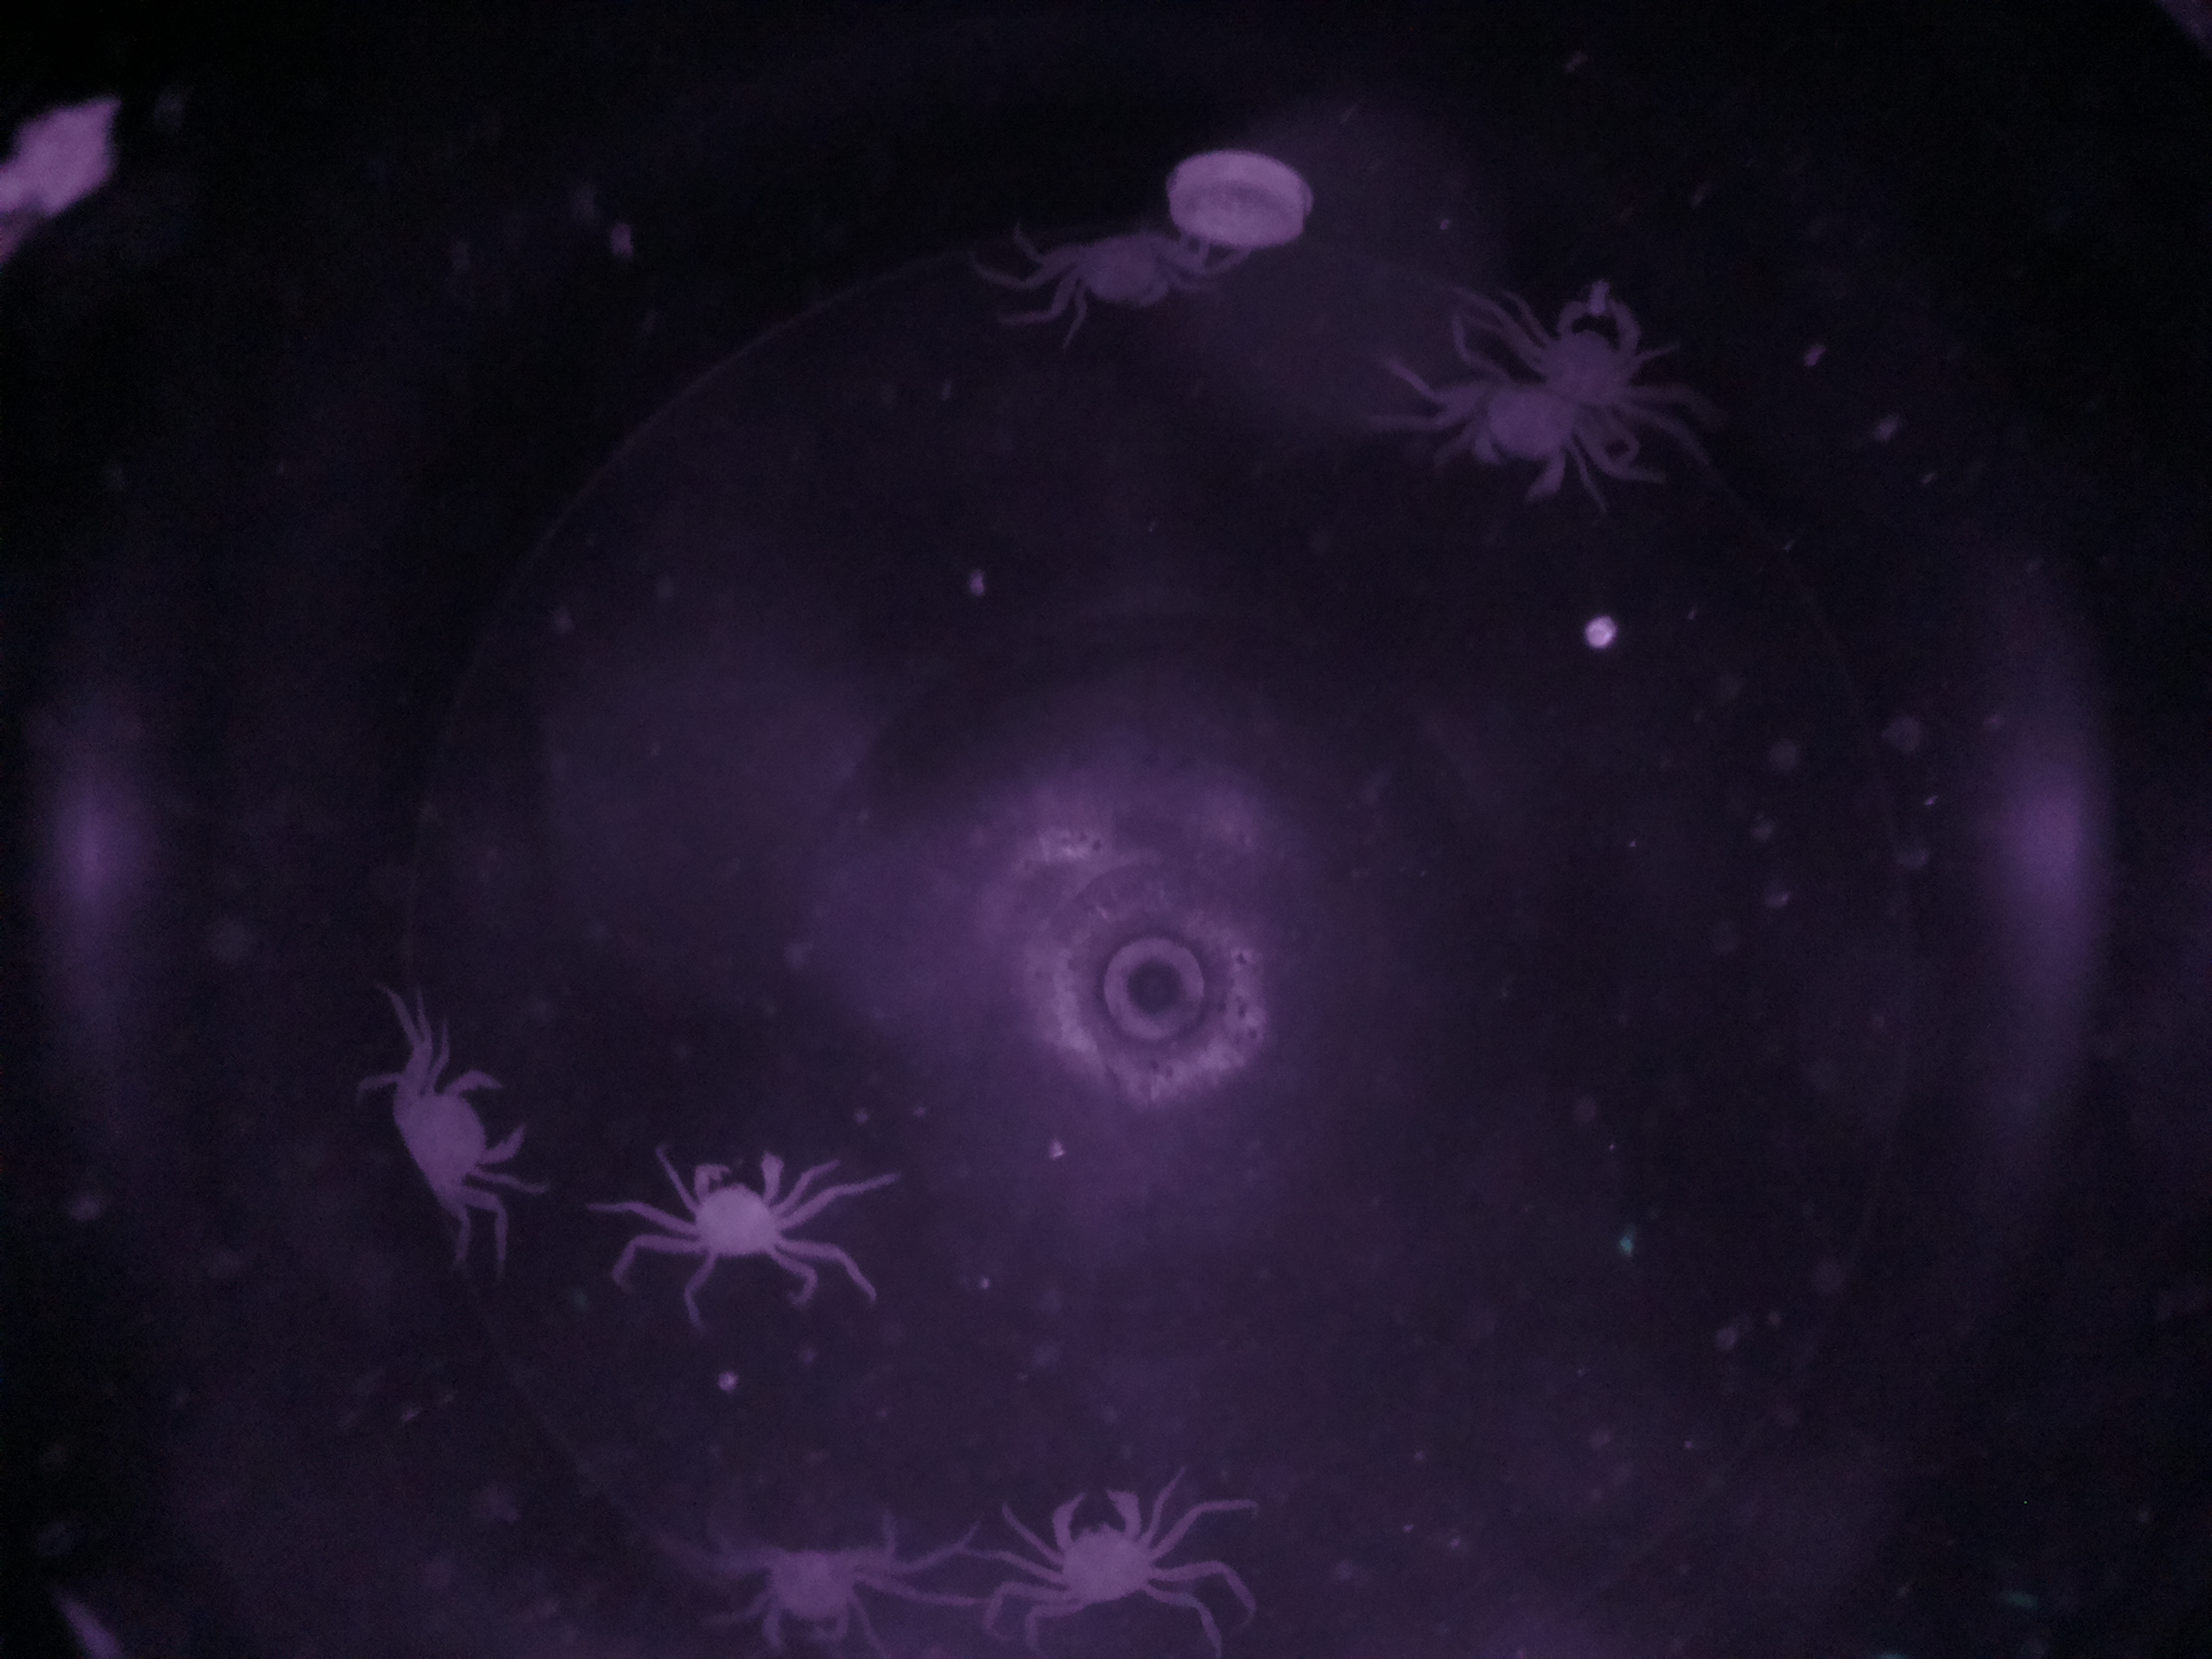Crab: (352, 1037, 540, 1230), (657, 1136, 845, 1303), (1008, 1457, 1174, 1645)
